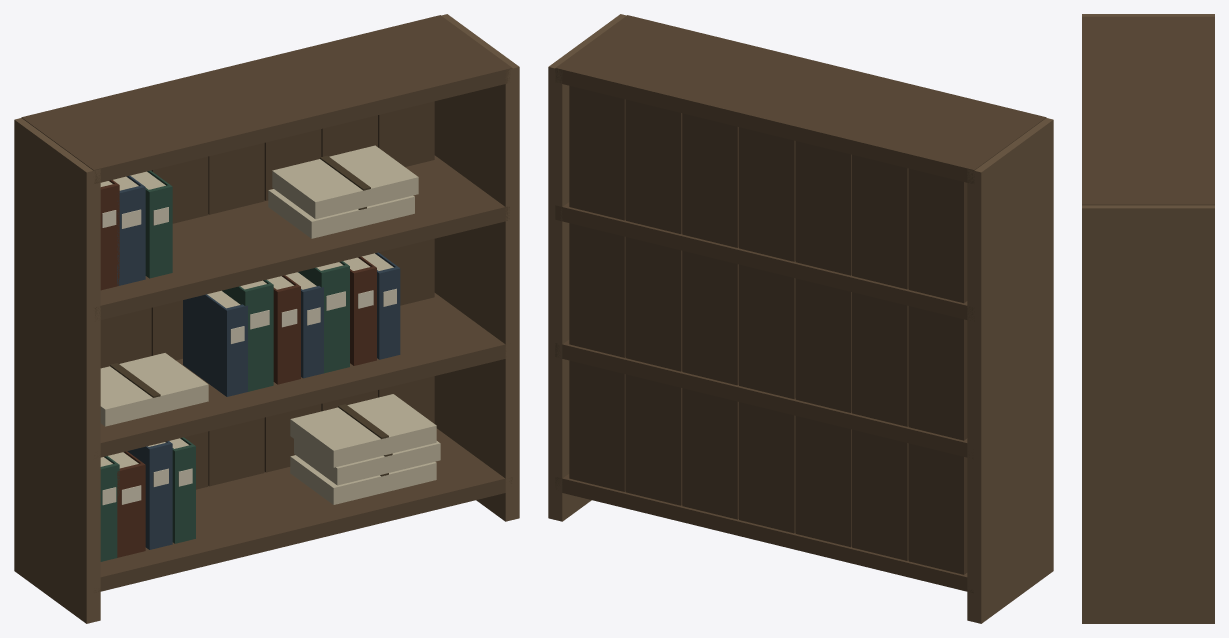
The model's file is RecordPress.glb.
3 views of the same model, side by side, from view 1: azimuth 30°, elevation 25°; view 2: azimuth 150°, elevation 25°; view 3: azimuth 270°, elevation 25° (orthographic). The views are drawn at different scales.
Visible parts, largest first — view 1: RecordPress; view 2: RecordPress; view 3: RecordPress.
Part boxes in pixels (x1,y1,x2,y2): RecordPress: (14, 14, 519, 623); RecordPress: (548, 14, 1053, 623); RecordPress: (1082, 14, 1214, 623).
Size of the model in its own units: 1.38 by 1.38 by 0.4.
